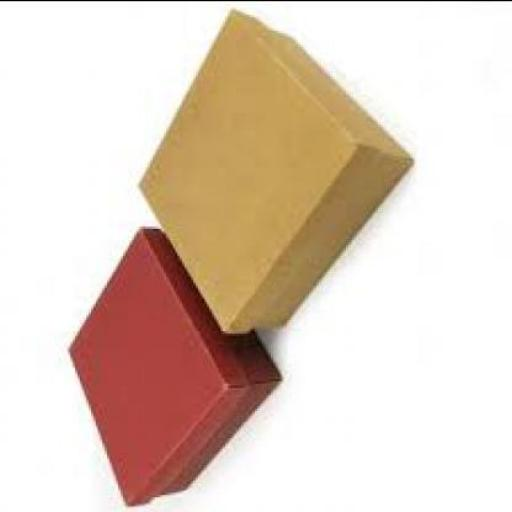cardboard: (136, 12, 410, 336), (66, 227, 282, 508)
